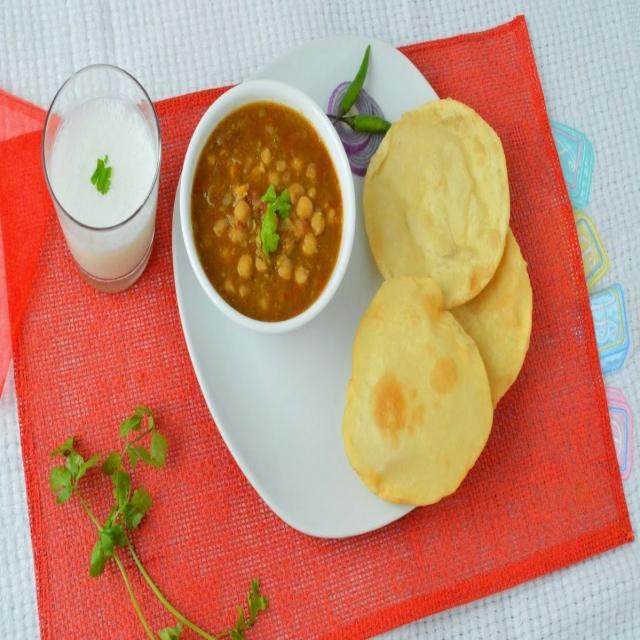Bhatura: (342, 100, 528, 506)
Chole: (204, 118, 331, 297)
